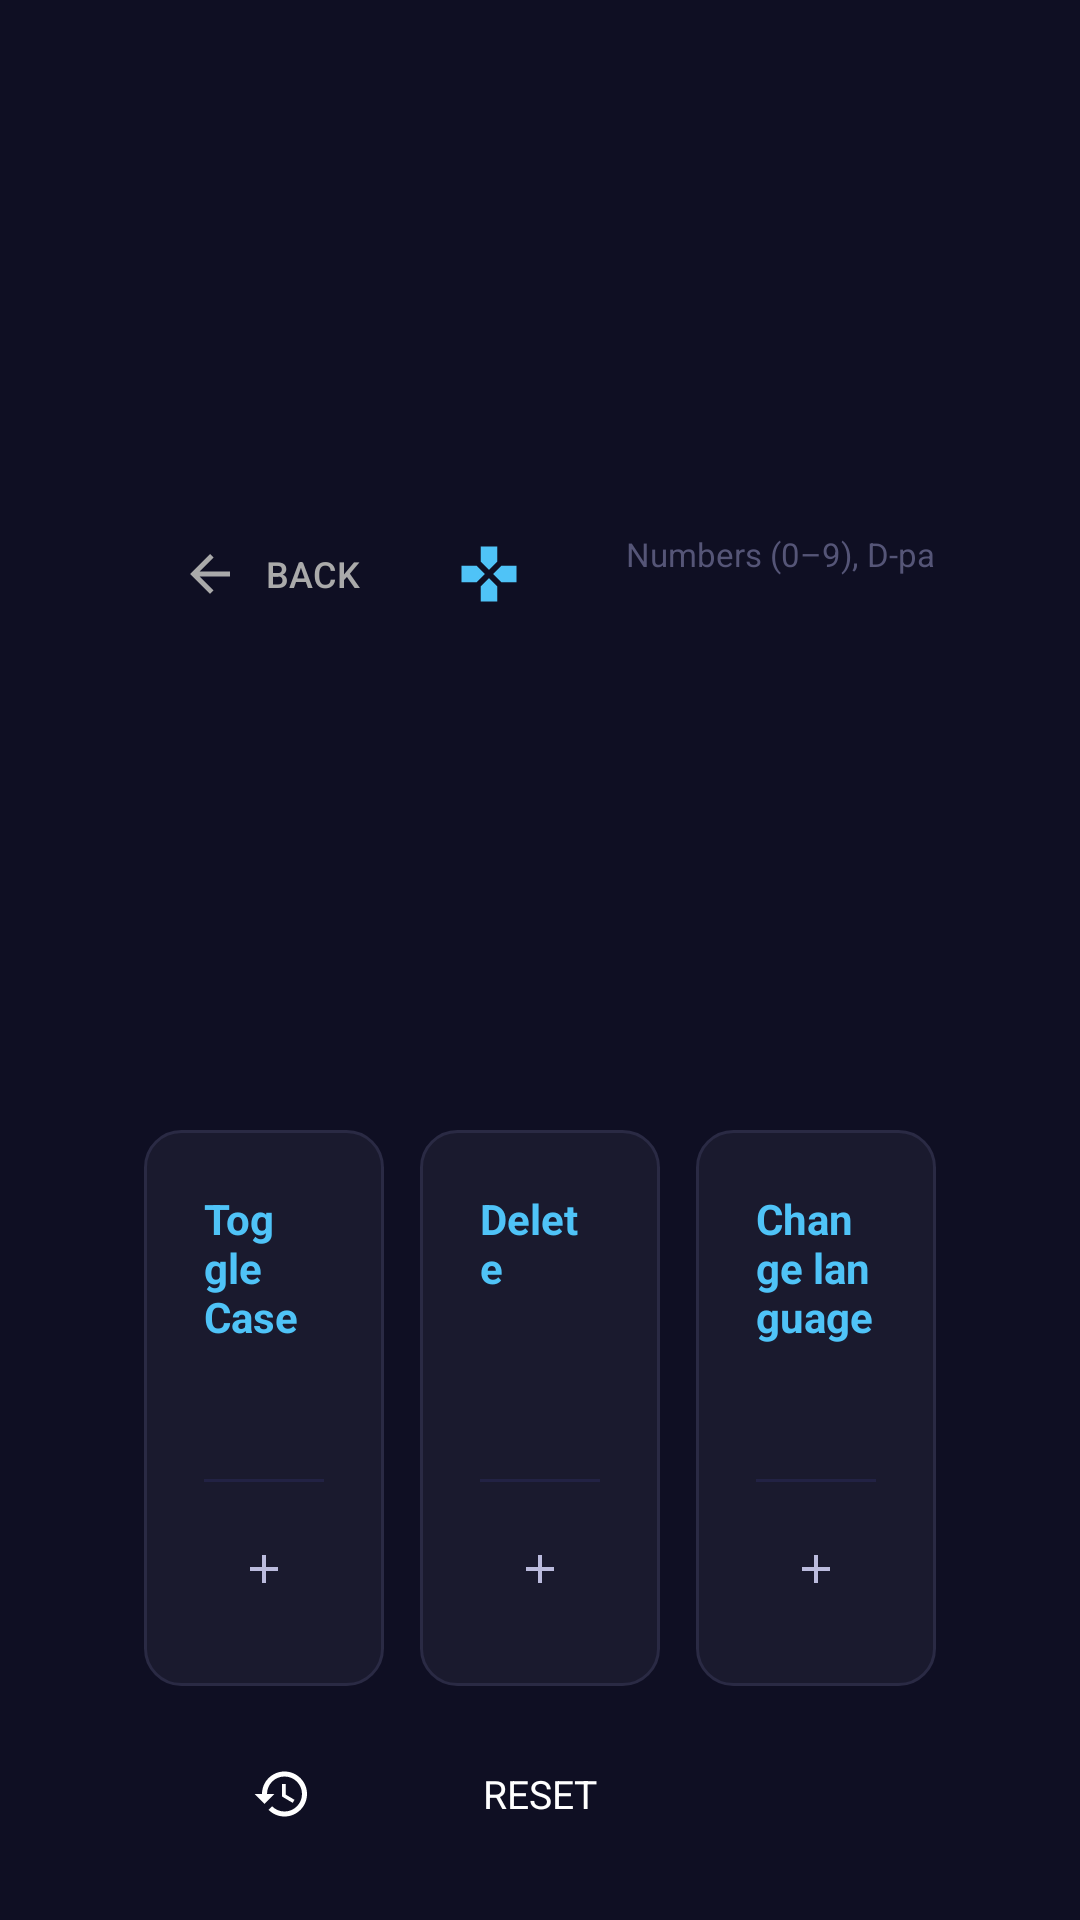

Icon bounding boxes for this 1080*1920 phone screenshot, format bbox=(x1, y1, x2, y2):
gamepad: bbox=(461, 546, 517, 602)
restore: bbox=(255, 1771, 307, 1817)
